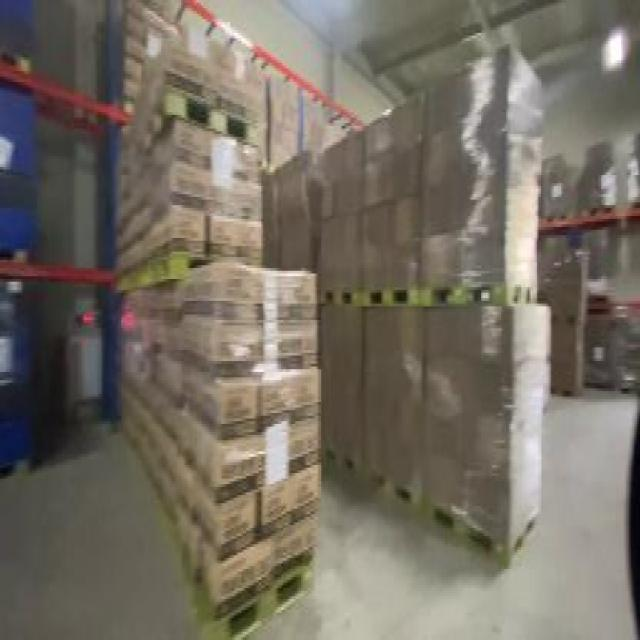box: (322, 44, 546, 566), (106, 265, 328, 632), (119, 3, 266, 287), (0, 0, 40, 481), (266, 68, 328, 282), (545, 241, 592, 402), (584, 301, 638, 407), (583, 137, 620, 219), (538, 150, 571, 222)
